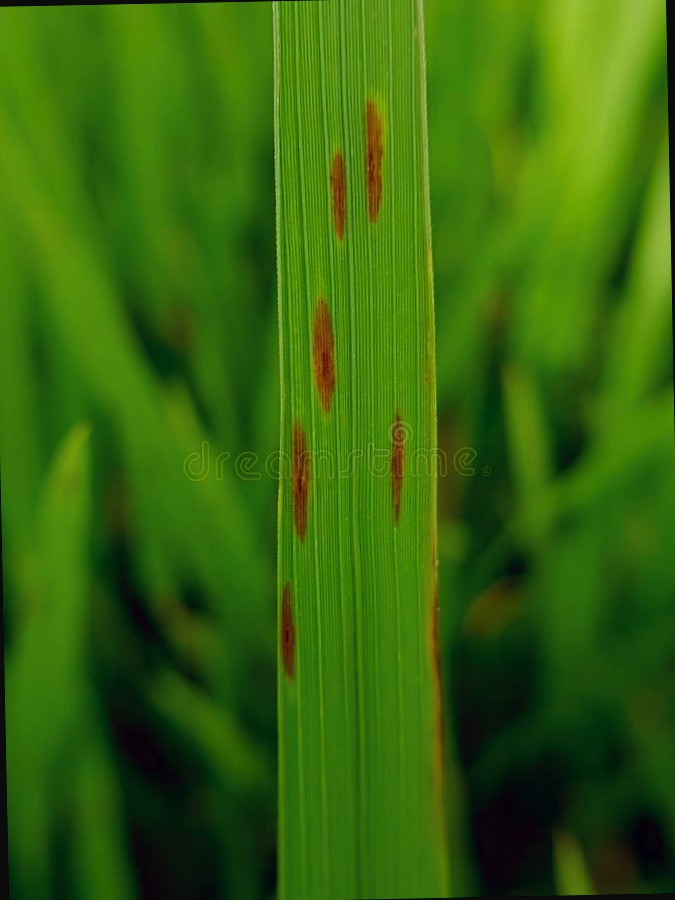Bacterial_Leaf_Blight: (265, 411, 334, 541), (347, 82, 394, 227), (256, 574, 314, 683), (376, 402, 417, 537), (299, 290, 344, 411), (322, 149, 349, 248)
